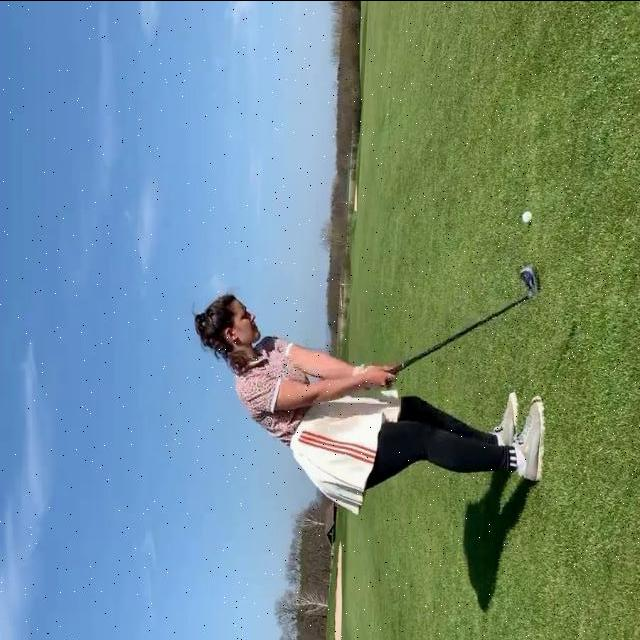ClubHandle: (363, 262, 542, 390)
ClubHead: (520, 263, 538, 292)
GolfBall: (521, 209, 533, 223)
